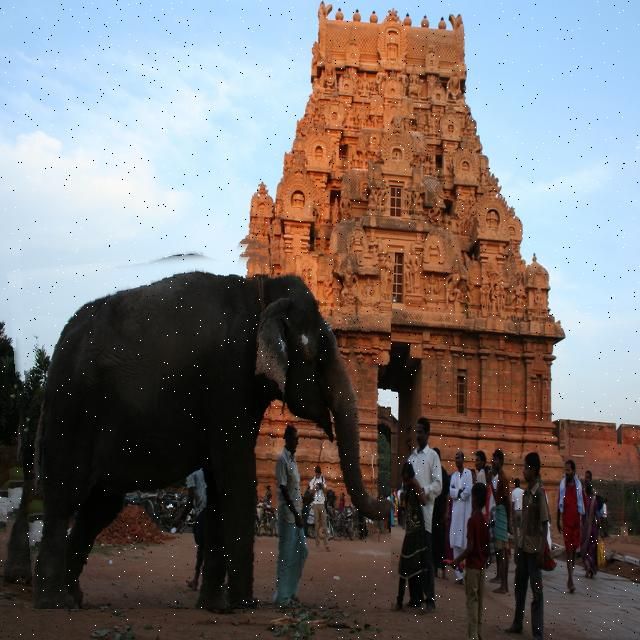elephant: (7, 237, 391, 609)
